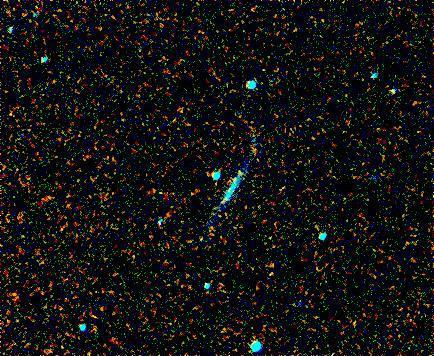star: (242, 134, 272, 164)
